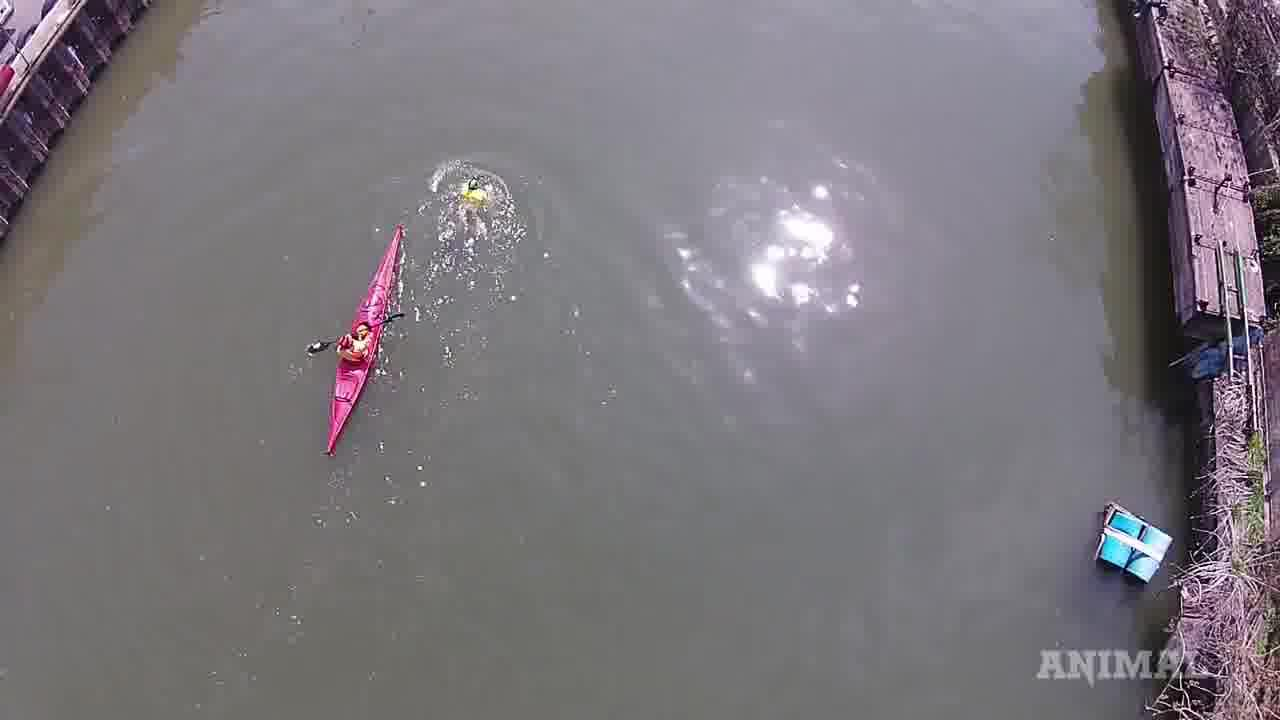human: (446, 166, 496, 218)
